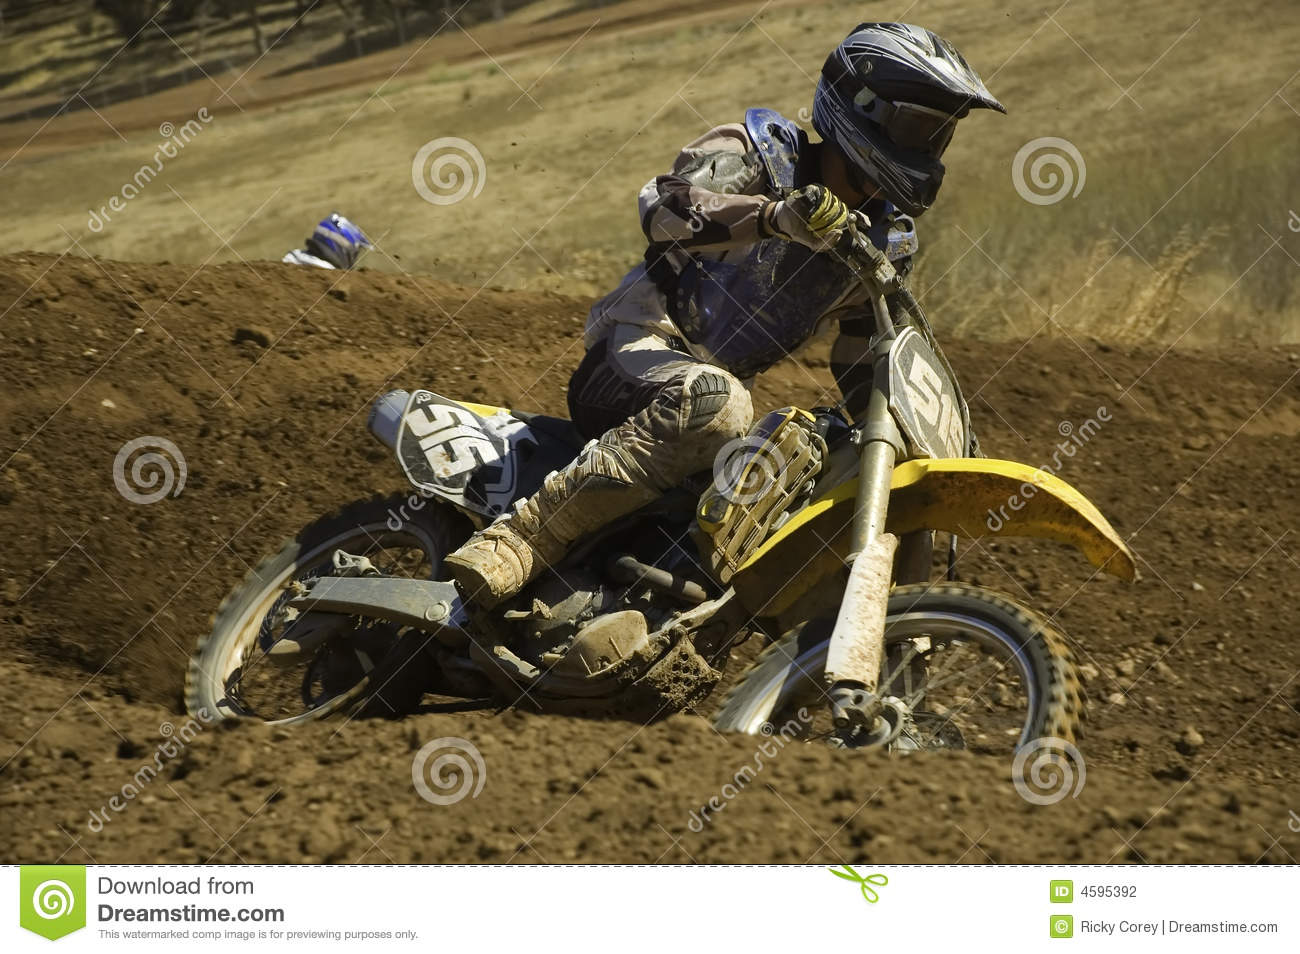helmet: (814, 3, 1002, 225)
